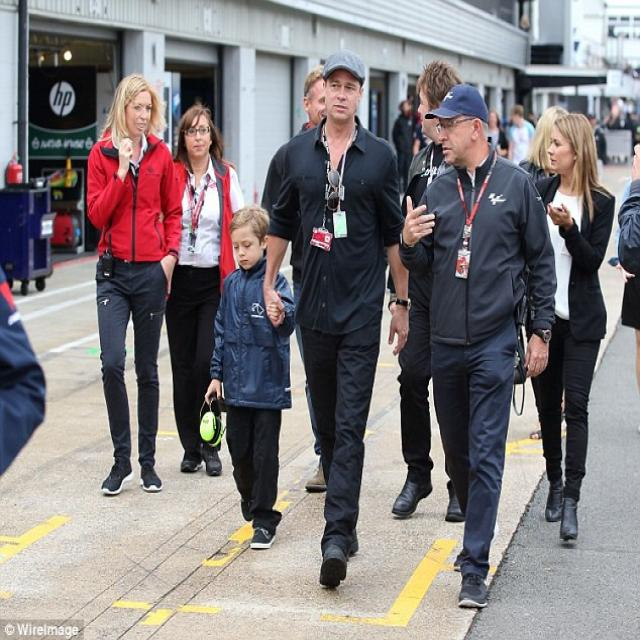body: (398, 80, 558, 610), (259, 49, 411, 594), (257, 60, 403, 498), (388, 58, 478, 528), (85, 72, 184, 499), (524, 109, 618, 546), (195, 199, 294, 552), (165, 101, 246, 480), (515, 104, 574, 444), (582, 94, 640, 426), (0, 259, 48, 477), (391, 99, 418, 194), (506, 104, 537, 168), (488, 108, 510, 156), (412, 118, 428, 155), (523, 104, 541, 130)
